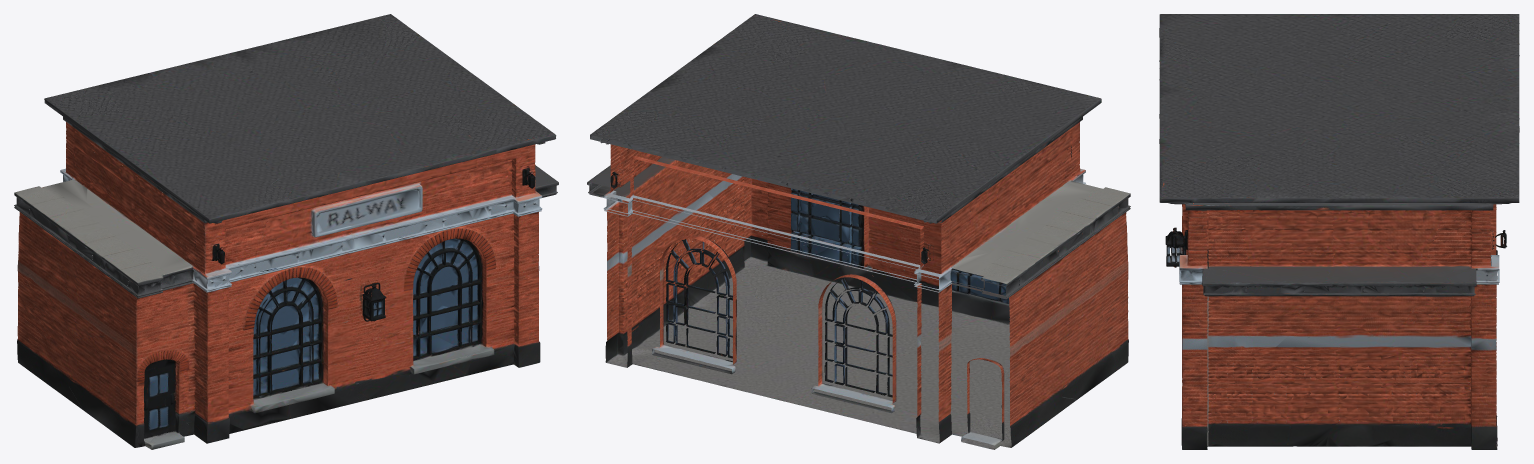
File: rail_bay.glb
3 views of the same model, side by side, from view 1: azimuth 30°, elevation 25°; view 2: azimuth 150°, elevation 25°; view 3: azimuth 270°, elevation 25° (orthographic). The views are drawn at different scales.
Size of the model in its own units: 1.9 by 1.01 by 1.3.
1 material, 1 textured.
